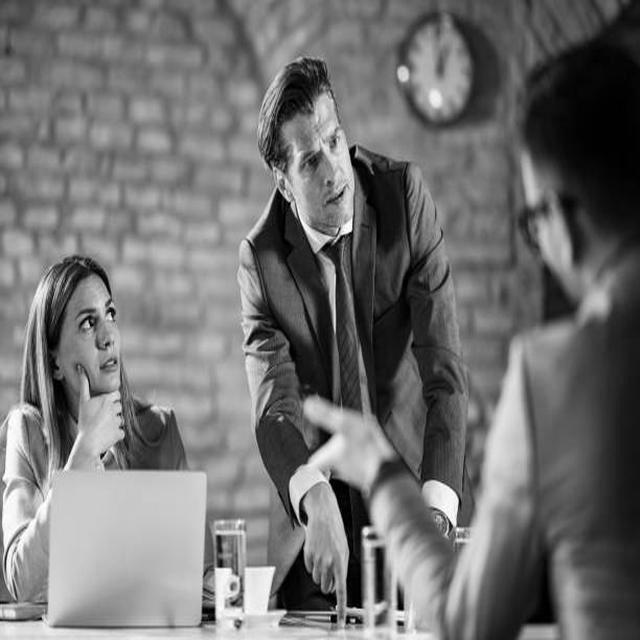Angry: (283, 98, 356, 228)
